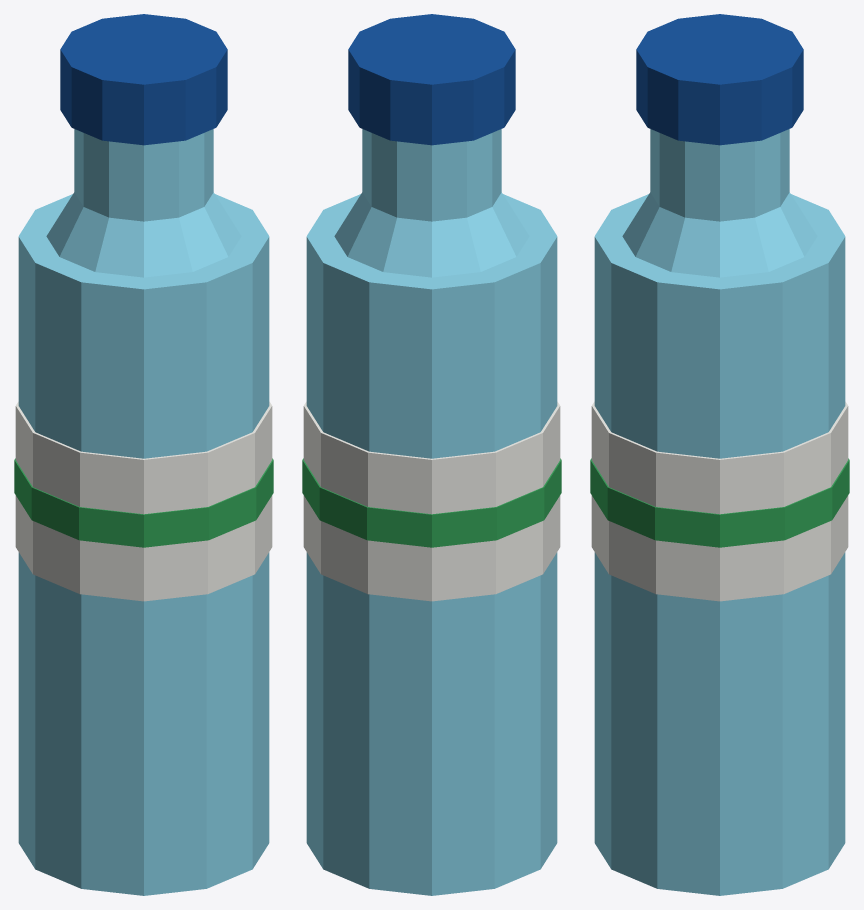
The model's file is Plastic_Bottle.fbx.
3 views of the same model, side by side, from view 1: azimuth 30°, elevation 25°; view 2: azimuth 150°, elevation 25°; view 3: azimuth 270°, elevation 25° (orthographic).
Visible parts, largest first — view 1: Bottle_Body, Bottle_Label, Bottle_Cap, Bottle_Neck, Bottle_Shoulder, Bottle_GreenStripe; view 2: Bottle_Body, Bottle_Label, Bottle_Cap, Bottle_Neck, Bottle_Shoulder, Bottle_GreenStripe; view 3: Bottle_Body, Bottle_Label, Bottle_Cap, Bottle_Neck, Bottle_Shoulder, Bottle_GreenStripe.
Part boxes in pixels (x1=…): Bottle_Body: x1=18, y1=194, x2=269, y2=895; Bottle_Label: x1=15, y1=401, x2=272, y2=601; Bottle_Cap: x1=60, y1=14, x2=227, y2=145; Bottle_Neck: x1=74, y1=129, x2=213, y2=221; Bottle_Shoulder: x1=46, y1=192, x2=241, y2=277; Bottle_GreenStripe: x1=14, y1=458, x2=273, y2=547; Bottle_Body: x1=306, y1=194, x2=557, y2=895; Bottle_Label: x1=303, y1=401, x2=560, y2=601; Bottle_Cap: x1=348, y1=14, x2=515, y2=145; Bottle_Neck: x1=362, y1=129, x2=501, y2=221; Bottle_Shoulder: x1=334, y1=192, x2=529, y2=277; Bottle_GreenStripe: x1=302, y1=458, x2=561, y2=547; Bottle_Body: x1=594, y1=194, x2=845, y2=895; Bottle_Label: x1=591, y1=401, x2=848, y2=601; Bottle_Cap: x1=636, y1=14, x2=803, y2=145; Bottle_Neck: x1=650, y1=129, x2=789, y2=221; Bottle_Shoulder: x1=622, y1=192, x2=817, y2=277; Bottle_GreenStripe: x1=590, y1=458, x2=849, y2=547.
Bounding box in the file's own units: 93 × 314 × 93.
